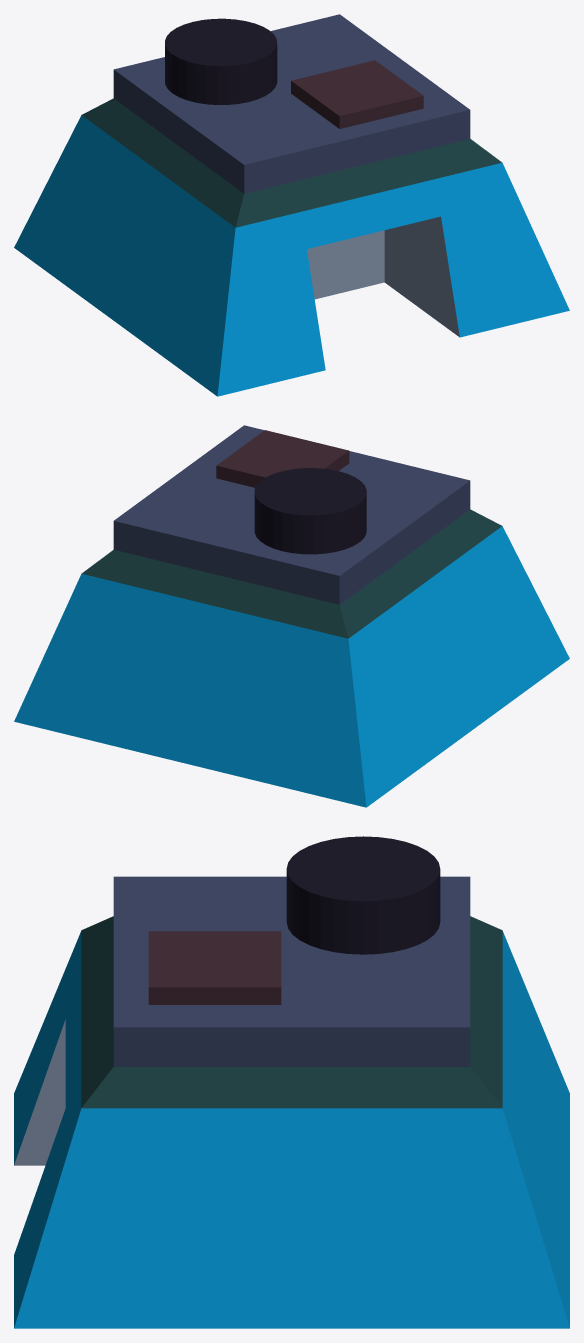
The picture shows the model from 3 angles, top to bottom: view 1: azimuth 30°, elevation 25°; view 2: azimuth 150°, elevation 25°; view 3: azimuth 270°, elevation 25°; orthographic projection. The views are drawn at different scales.
Visible parts, largest first — view 1: Cube; view 2: Cube; view 3: Cube.
Boxes of the visible parts, <box> form: Cube: <box>14,14,569,396</box>; Cube: <box>14,425,569,807</box>; Cube: <box>14,836,569,1328</box>.
Size of the model in its own units: 5.25 by 3.26 by 5.25.
1 material, 1 textured.
